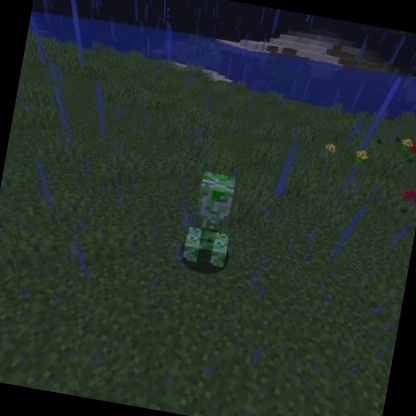creeper: (176, 166, 245, 273)
